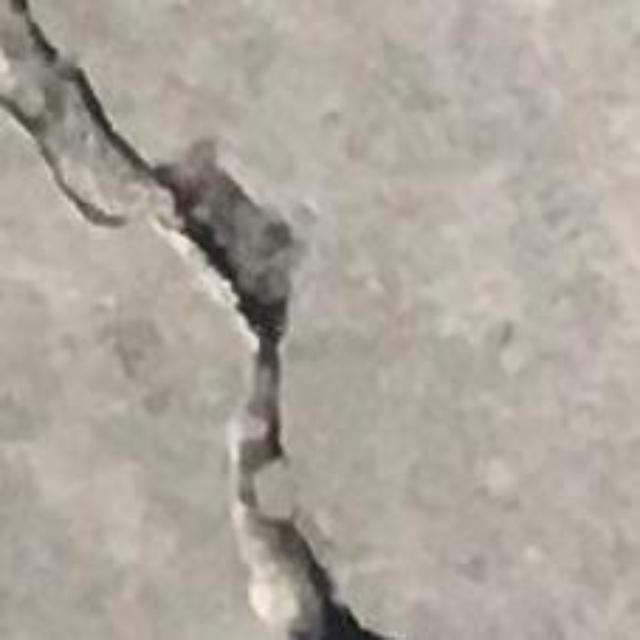crack: (0, 0, 386, 639)
